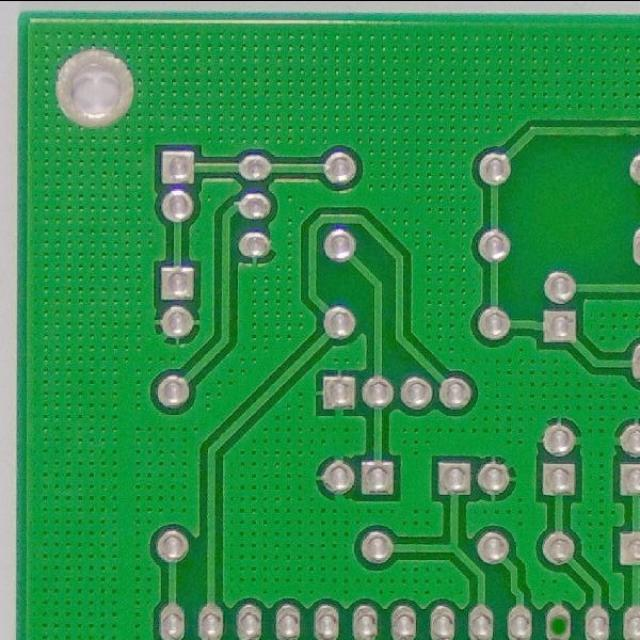Missing_Hole: (541, 602, 576, 640)
